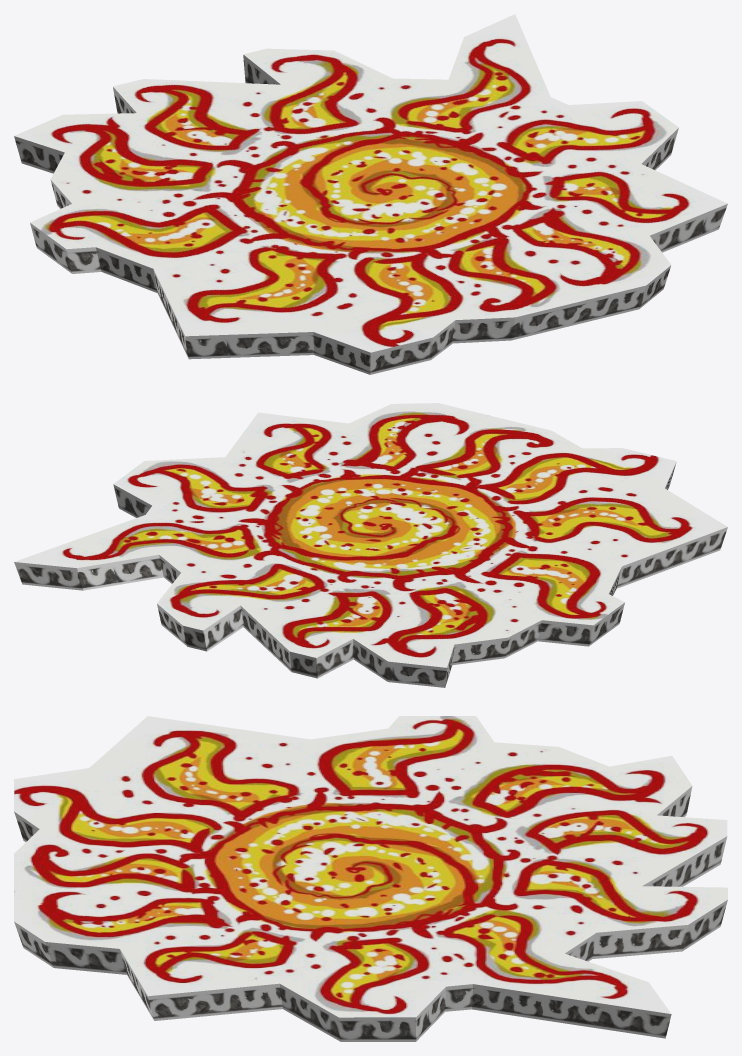
The model's file is sun_cutout.glb.
3 views of the same model, one above another, from view 1: azimuth 30°, elevation 25°; view 2: azimuth 150°, elevation 25°; view 3: azimuth 270°, elevation 25° (orthographic). The views are drawn at different scales.
Parts seen in each view (by area): view 1: Sun.001; view 2: Sun.001; view 3: Sun.001.
Part boxes in pixels (bbox=[...]): Sun.001: bbox=[14, 14, 727, 374]; Sun.001: bbox=[14, 403, 727, 687]; Sun.001: bbox=[14, 716, 727, 1041].
Size of the model in its own units: 2.48 by 0.1075 by 2.48.
2 materials, 2 textured.
